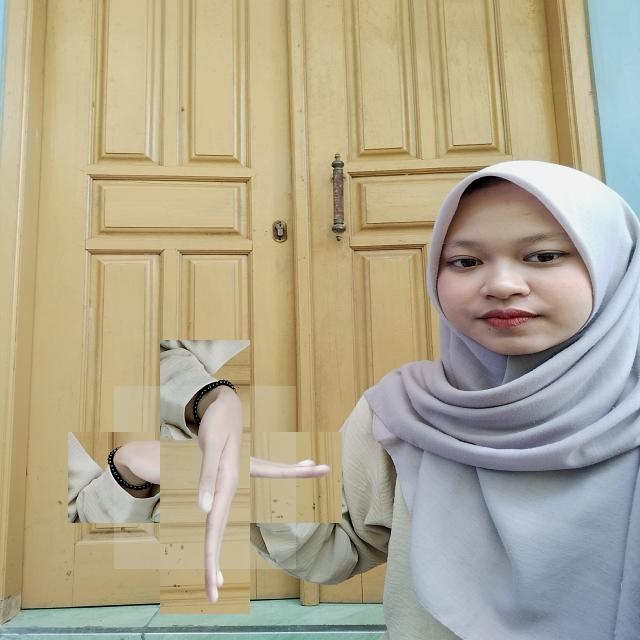adik: (114, 386, 296, 569)
